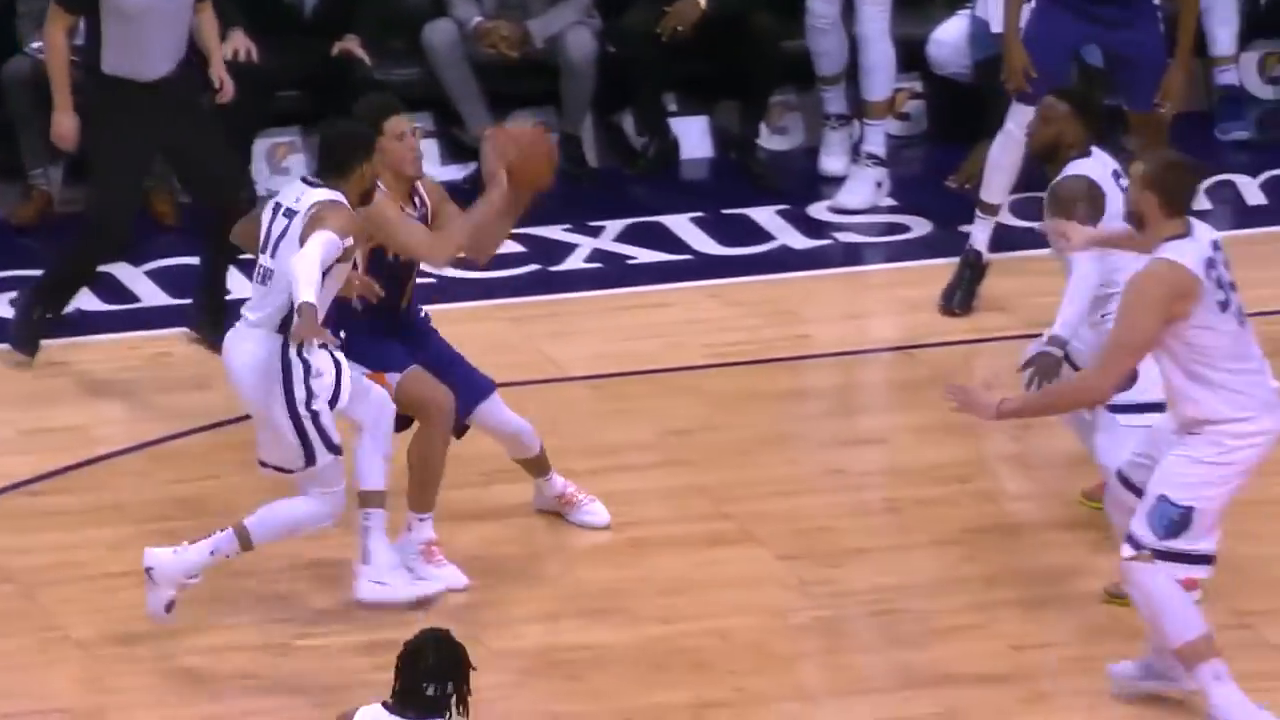ball: (480, 123, 565, 196)
